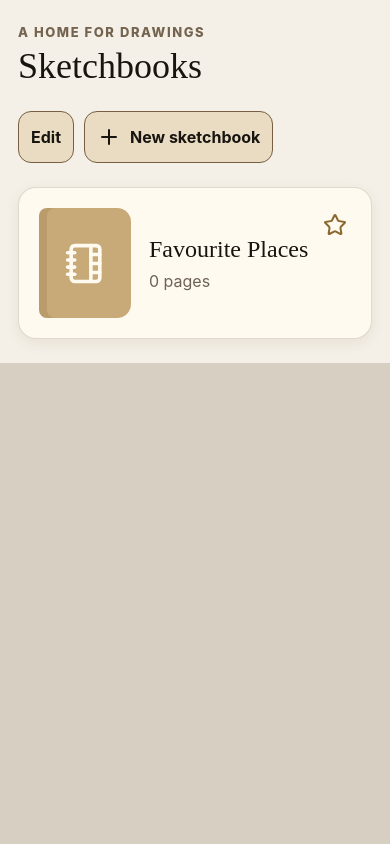
SketchbooksView › adds a spoken title to the editable name field
The width and height of the screenshot is (390, 844).
What coordinates should you click on to do the following:
click the button "New sketchbook"
I would click on:
 (179, 137)
Its box is [84, 111, 273, 163].
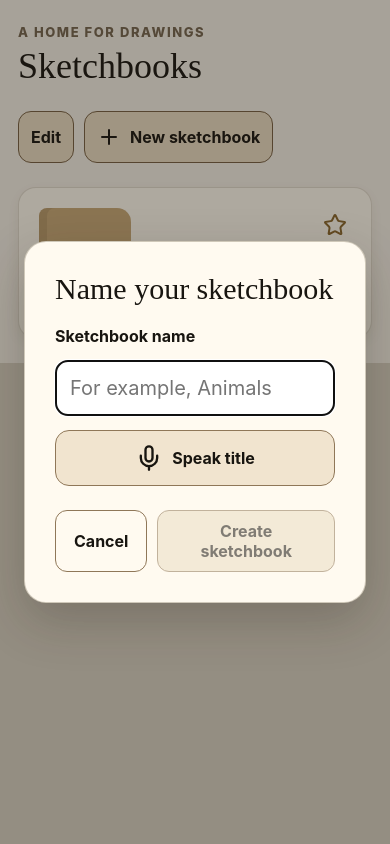
What coordinates should you click on to do the following:
click the button "Speak title"
I would click on:
 (195, 458)
Its box is [55, 430, 335, 486].
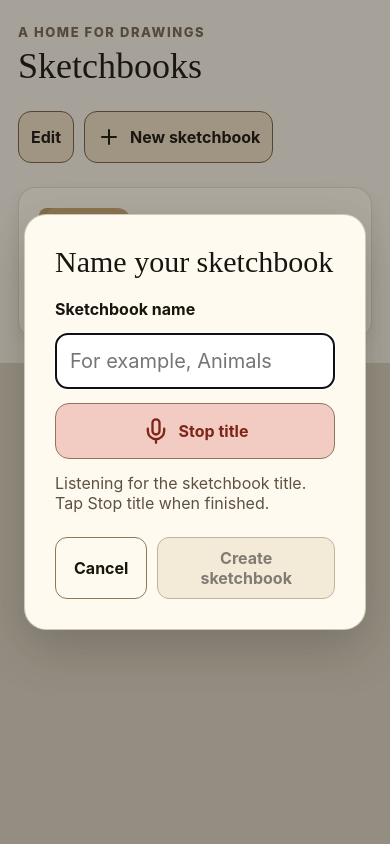
Result: the button "Stop title" is shown
What coordinates should you click on to do the following:
click the button "Stop title"
I would click on:
 (195, 431)
Its box is [55, 403, 335, 459].
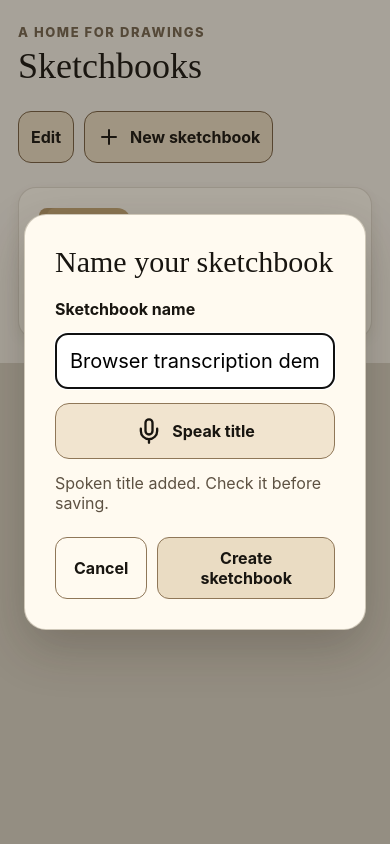
Result: the field labelled "Sketchbook name" holds "Browser transcription demonstration. Edit this text if needed." at [55, 333, 335, 389]
